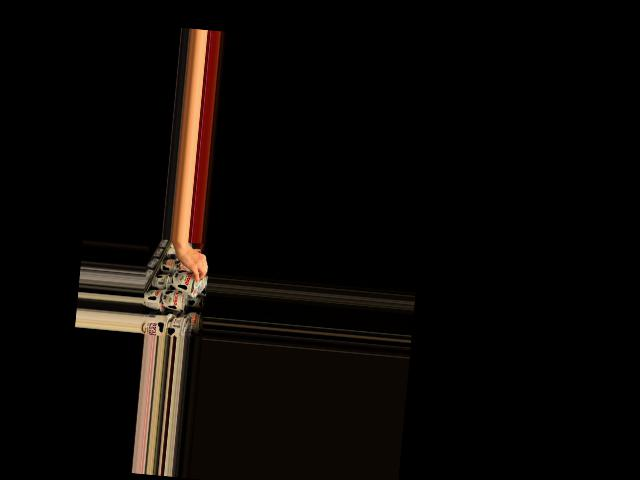cotage: (171, 270, 199, 297)
